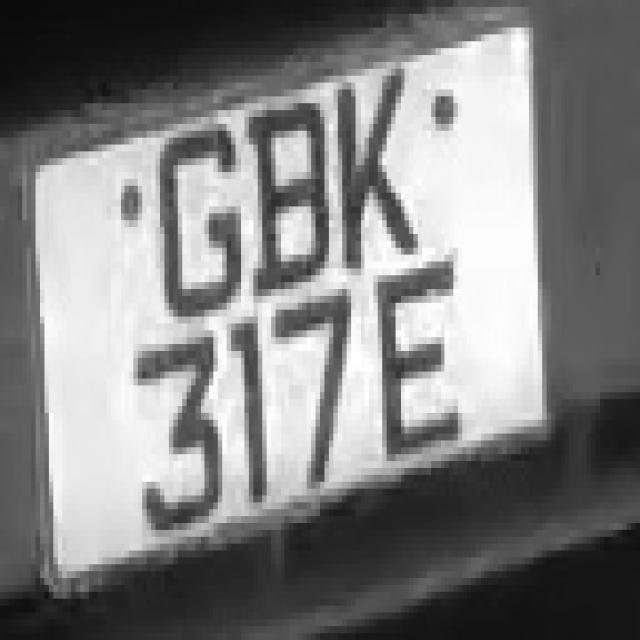1: (218, 310, 289, 523)
3: (116, 324, 222, 544)
7: (280, 276, 360, 510)
B: (240, 90, 333, 282)
E: (369, 255, 484, 468)
G: (138, 117, 249, 317)
K: (311, 48, 427, 268)
